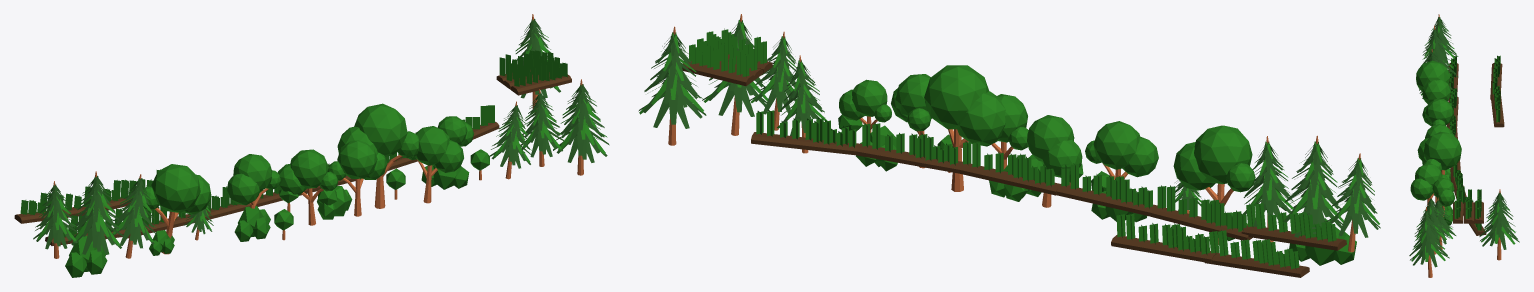
File: solution_19_greenery.fbx
The picture shows the model from 3 angles, left to right: view 1: azimuth 30°, elevation 25°; view 2: azimuth 150°, elevation 25°; view 3: azimuth 270°, elevation 25°; orthographic projection. The views are drawn at different scales.
Parts seen in each view (by area): view 1: solution_19_greenery; view 2: solution_19_greenery; view 3: solution_19_greenery.
Boxes of the visible parts, <box> form: solution_19_greenery: <box>14,14,609,277</box>; solution_19_greenery: <box>638,14,1380,277</box>; solution_19_greenery: <box>1409,14,1519,277</box>.
Size of the model in its own units: 6342 by 1334 by 1510.
